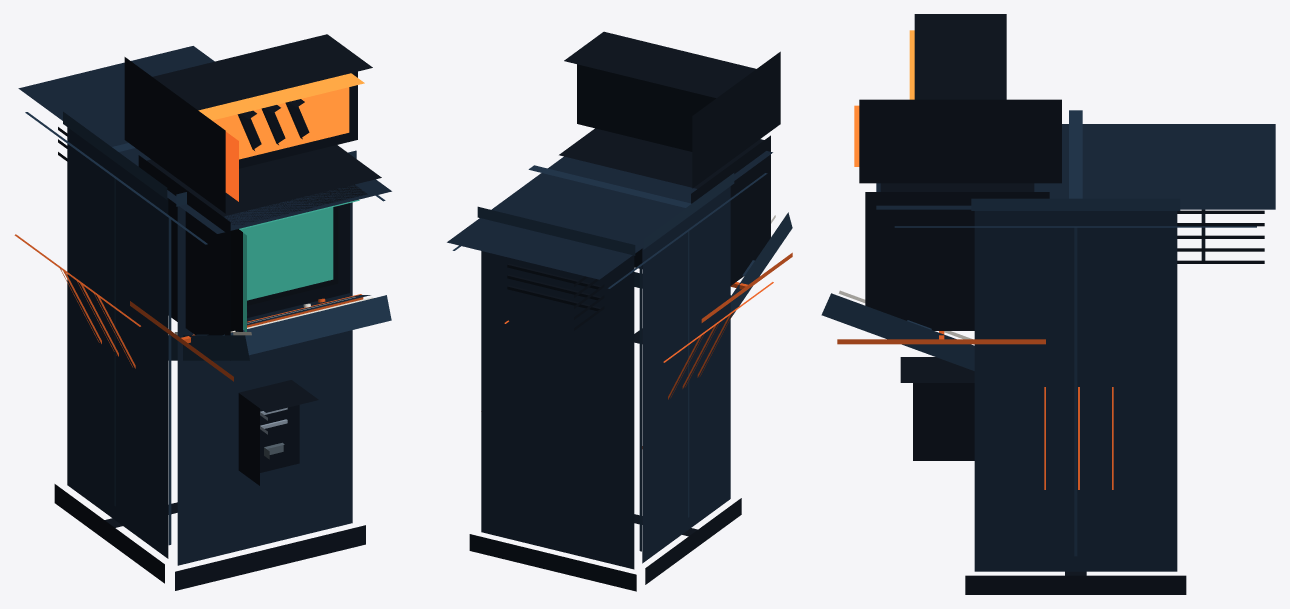
File: model-cabinet-01.glb
3 renders of one model, left to right at view 1: azimuth 30°, elevation 25°; view 2: azimuth 150°, elevation 25°; view 3: azimuth 270°, elevation 25°, orthographic. The views are drawn at different scales.
Visible parts, largest first — view 1: 机身主体, 灯箱外壳, 屏幕边框, 灯箱灯面, 屏幕辉光, 底座底墩, 操作台, 投币门, 屏幕玻璃, 侧板左, 顶部压条, 正面框条; view 2: 机身主体, 灯箱外壳, 屏幕边框, 底座底墩, 顶部压条, 侧板左, 操作台, 散热百叶4, 散热百叶5, 散热百叶3, 正面框条; view 3: 机身主体, 灯箱外壳, 屏幕边框, 投币门, 底座底墩, 顶部压条, 操作台, 侧板右, 正面框条, 灯箱灯面.
Boxes of the visible parts, bbox=[...] form: 机身主体: bbox=[18, 46, 391, 565]; 灯箱外壳: bbox=[124, 34, 372, 213]; 屏幕边框: bbox=[138, 145, 381, 335]; 灯箱灯面: bbox=[198, 73, 364, 201]; 屏幕辉光: bbox=[239, 199, 359, 331]; 底座底墩: bbox=[54, 484, 365, 590]; 操作台: bbox=[168, 295, 391, 360]; 投币门: bbox=[238, 380, 318, 485]; 屏幕玻璃: bbox=[223, 184, 367, 331]; 侧板左: bbox=[25, 112, 207, 545]; 顶部压条: bbox=[63, 111, 356, 206]; 正面框条: bbox=[130, 294, 363, 381]; 机身主体: bbox=[447, 151, 772, 569]; 灯箱外壳: bbox=[564, 31, 780, 188]; 屏幕边框: bbox=[559, 128, 770, 285]; 底座底墩: bbox=[469, 498, 741, 591]; 顶部压条: bbox=[477, 165, 734, 255]; 侧板左: bbox=[608, 173, 767, 551]; 操作台: bbox=[634, 212, 792, 317]; 散热百叶4: bbox=[507, 274, 604, 319]; 散热百叶5: bbox=[507, 285, 604, 330]; 散热百叶3: bbox=[507, 263, 604, 308]; 正面框条: bbox=[701, 252, 792, 322]; 机身主体: bbox=[876, 124, 1275, 571]; 灯箱外壳: bbox=[859, 14, 1061, 183]; 屏幕边框: bbox=[865, 183, 1049, 330]; 投币门: bbox=[900, 357, 974, 460]; 底座底墩: bbox=[965, 571, 1186, 594]; 顶部压条: bbox=[971, 110, 1180, 210]; 操作台: bbox=[821, 293, 974, 370]; 侧板右: bbox=[894, 226, 1256, 556]; 正面框条: bbox=[837, 331, 1045, 344]; 灯箱灯面: bbox=[854, 30, 914, 166].
Size of the model in its own units: 0.9544 by 1.76 by 1.48.
